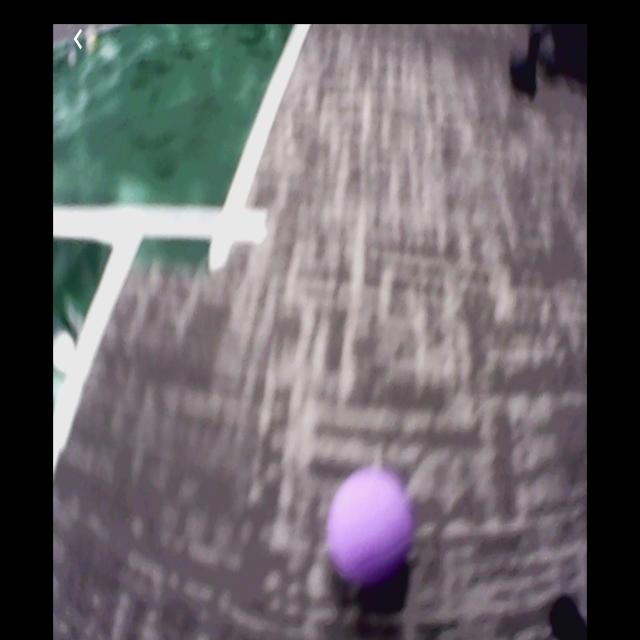ball: (329, 470, 412, 583)
